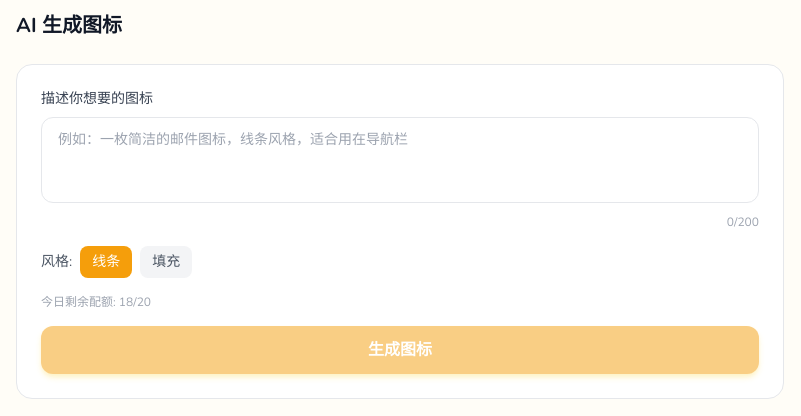
Test: AiGeneratePage › enables generate button when prompt has text
Type "a cat icon" into the text box with placeholder "例如：一枚简洁的邮件图标，线条风格，适合用在导航栏" at (400, 160), box [41,117,759,203]
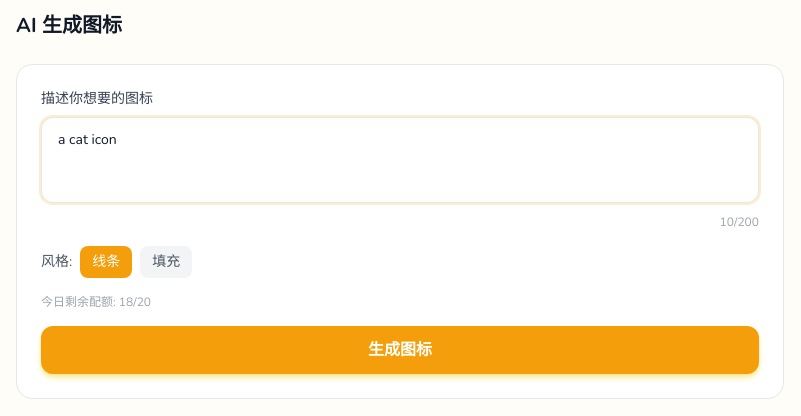
Check: the button "生成图标" is enabled, box [41,326,759,374]
